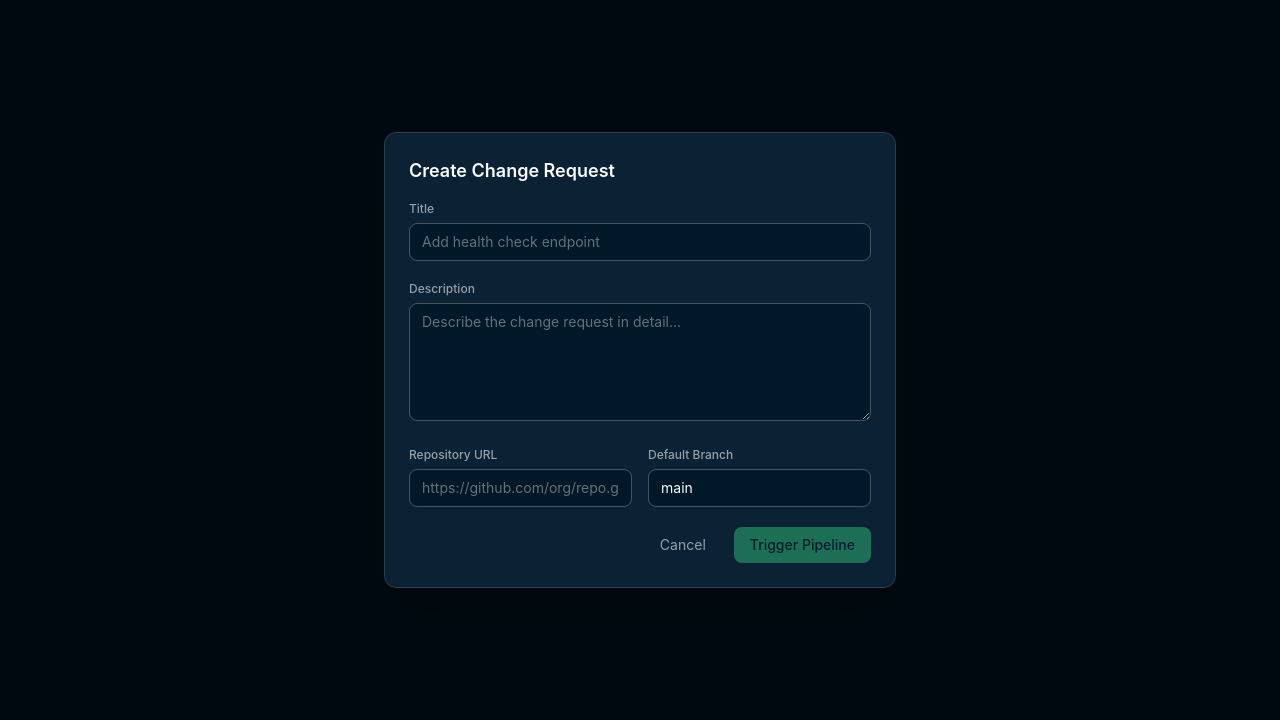
CRCreationDialog › disables submit button while submitting
In the field with placeholder "Add health check endpoint": (640, 242) 409,223 -> 871,261, type "My Feature"
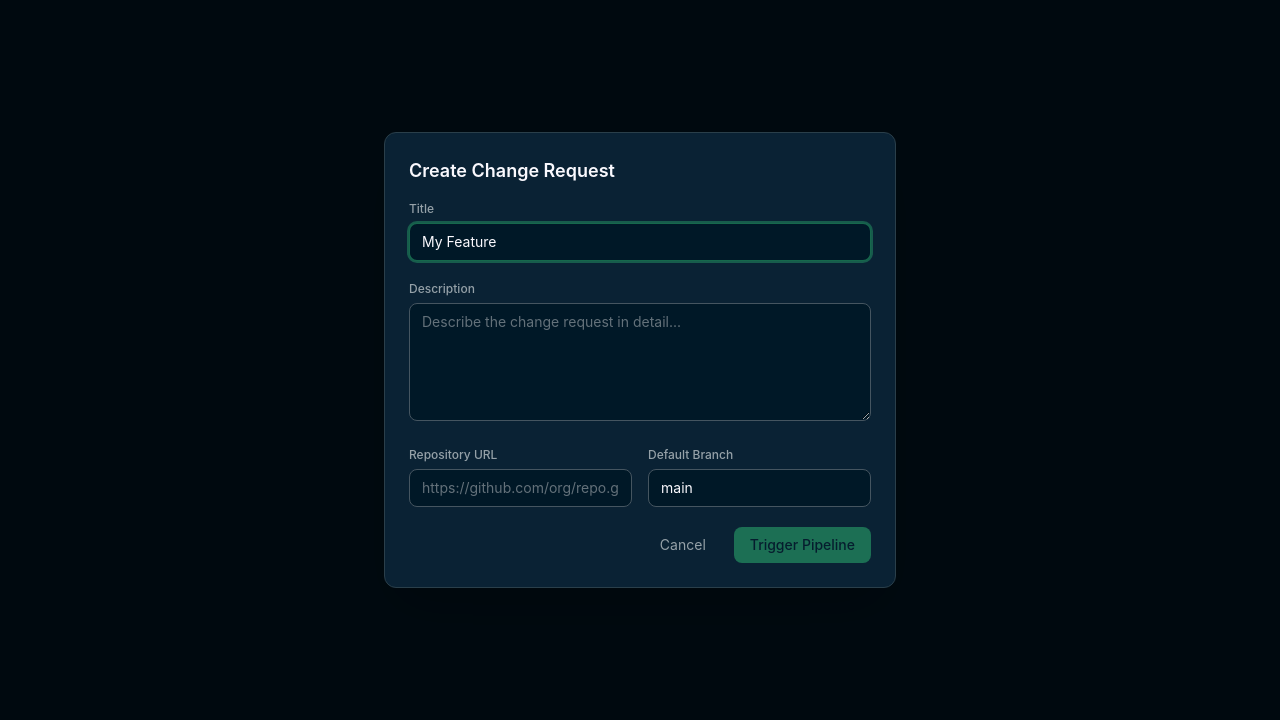
In the text box with placeholder "Describe the change request in detail...": (640, 362) 409,303 -> 871,421, type "Details here"
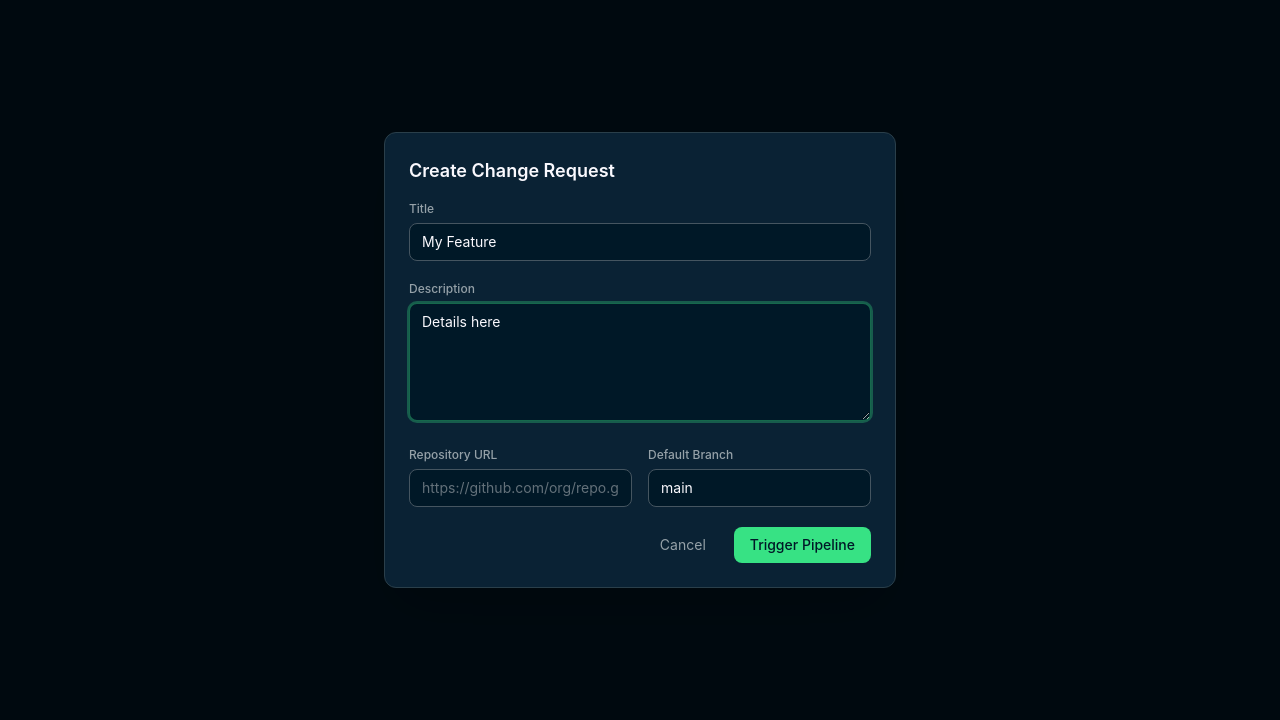
Click the button "Trigger Pipeline": (802, 545) 734,527 -> 871,563
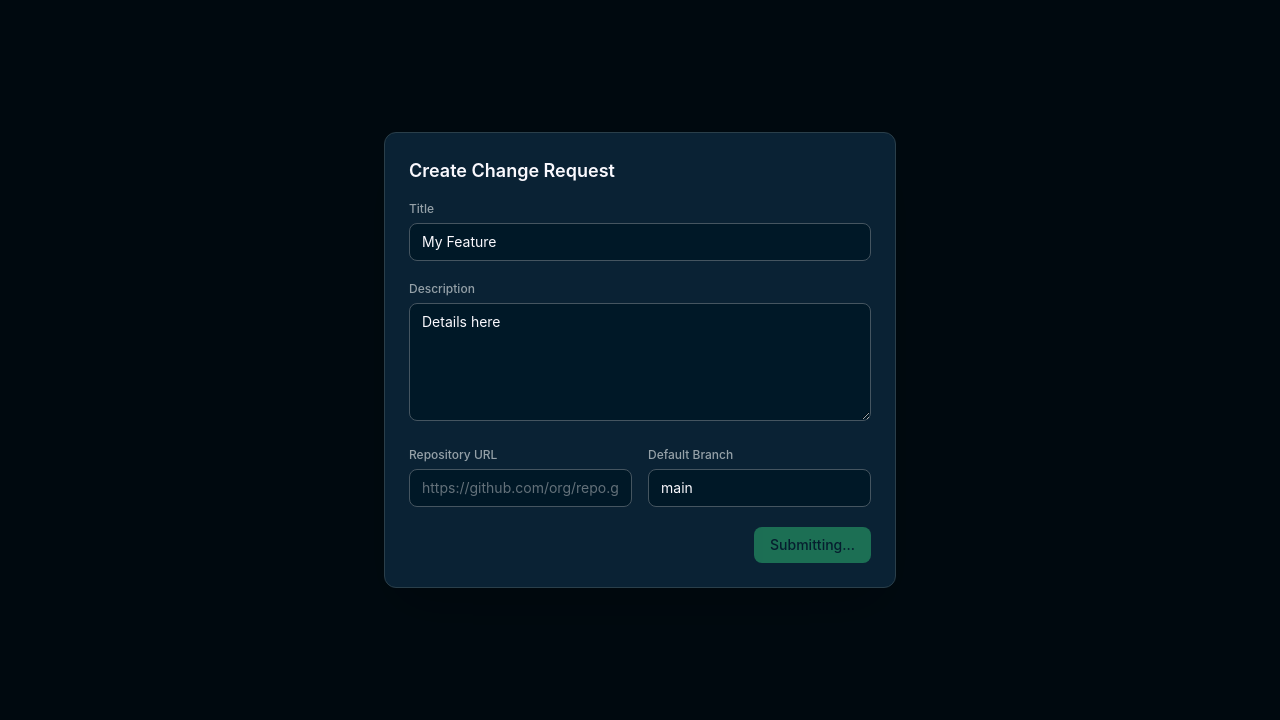
Expected: the button "Submitting..." is disabled, 754,527 -> 871,563
